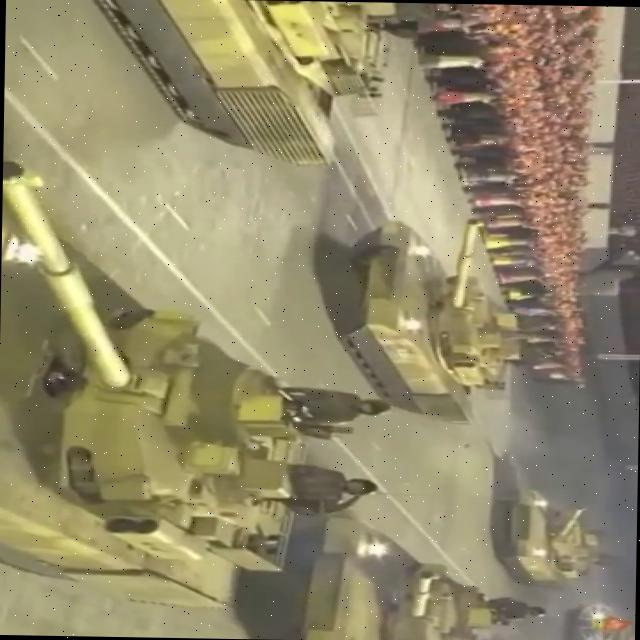north tank: (0, 160, 323, 614), (93, 0, 449, 172), (317, 207, 567, 439), (271, 498, 545, 640), (495, 482, 637, 598)
